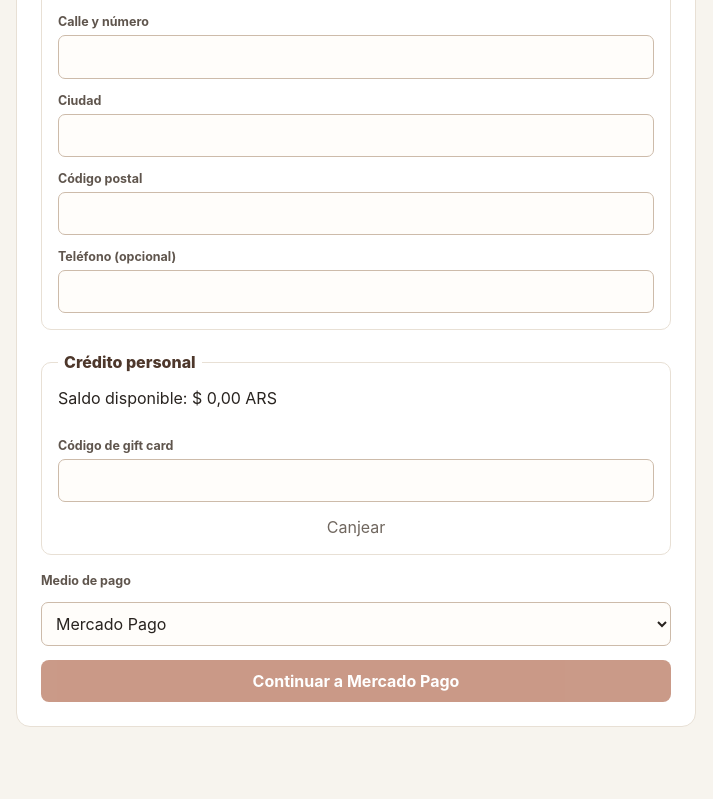
Test: purchase checkout and orders › keeps redeem locked when storage cannot confirm the absence of an attempt
(page scrolled)
Expected: the text "Saldo disponible: $ 0,00 ARS" is shown, x1=58 y1=388 x2=277 y2=408
Type "CODE" into the password field labelled "Código de gift card".
click(356, 481); type("CODE")  # box x1=58 y1=459 x2=654 y2=502
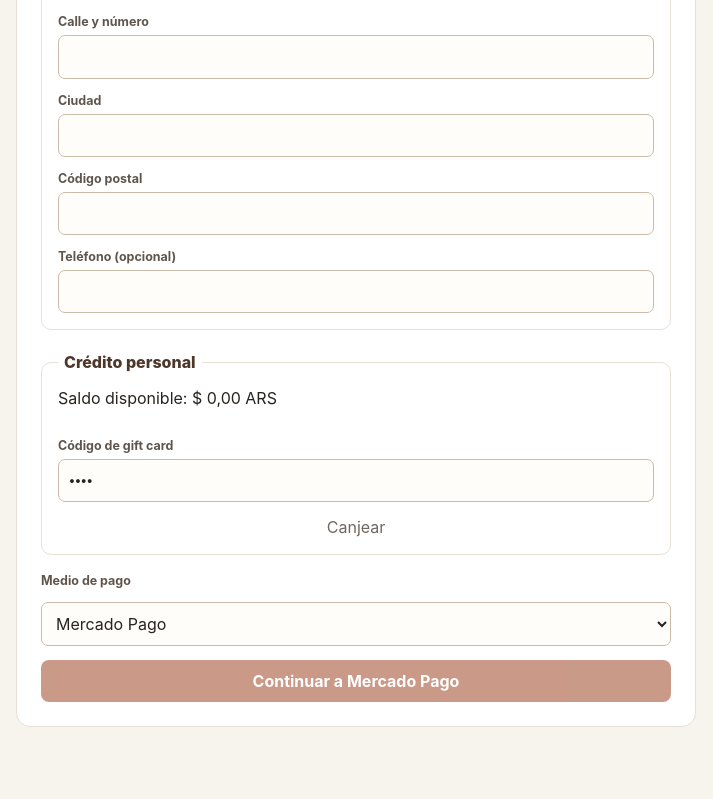
Click the button "Canjear".
click(356, 527)  # box x1=58 y1=516 x2=654 y2=538
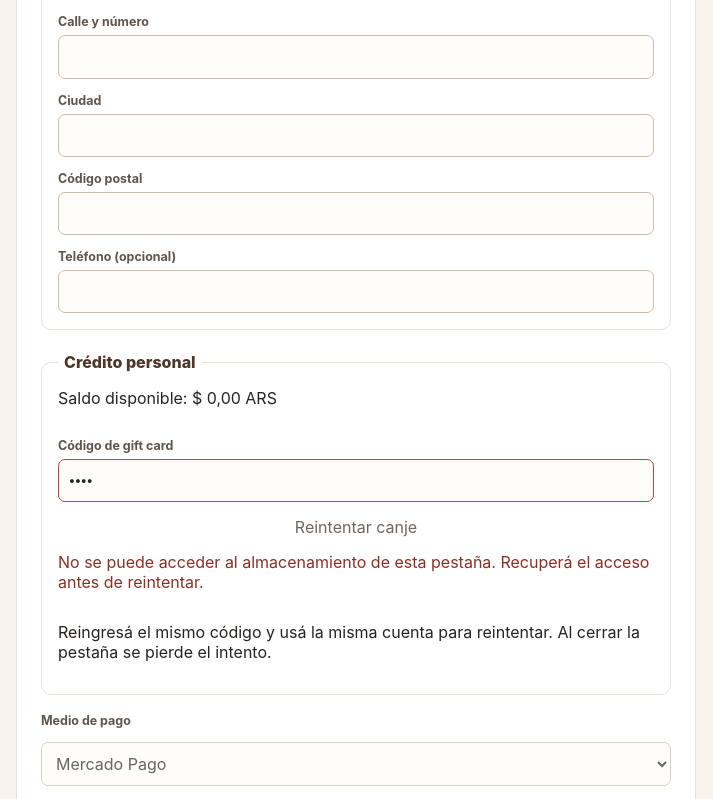
Now the message shows "almacenamiento", box x1=58 y1=552 x2=649 y2=592
Now the dropdown labelled "Medio de pago" is disabled, box x1=41 y1=742 x2=671 y2=786
